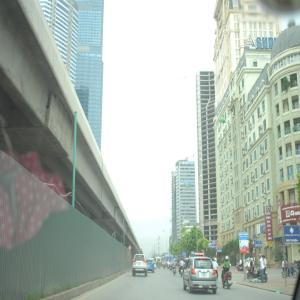Vehicle-registration-plate: (203, 271, 208, 280)
